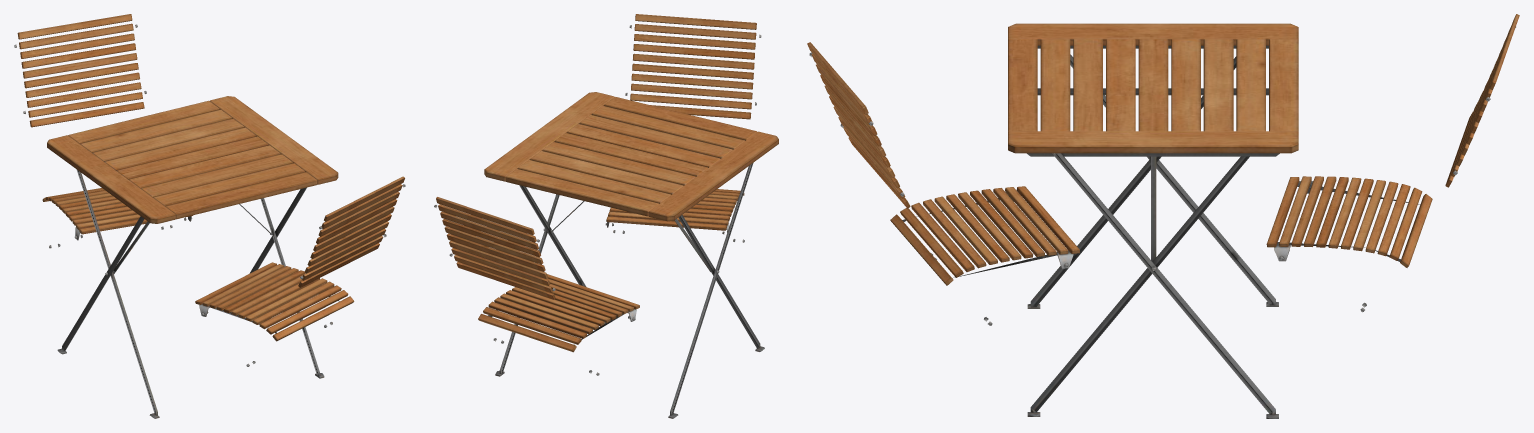
Rendered from outdoor_table_chair_set_01.glb.
The picture shows the model from 3 angles, left to right: view 1: azimuth 30°, elevation 25°; view 2: azimuth 150°, elevation 25°; view 3: azimuth 270°, elevation 25°; orthographic projection. The views are drawn at different scales.
Parts seen in each view (by area): view 1: outdoor_table_chair_set_01_table, outdoor_table_chair_set_01_chair_02, outdoor_table_chair_set_01_chair_01; view 2: outdoor_table_chair_set_01_table, outdoor_table_chair_set_01_chair_02, outdoor_table_chair_set_01_chair_01; view 3: outdoor_table_chair_set_01_table, outdoor_table_chair_set_01_chair_01, outdoor_table_chair_set_01_chair_02.
Boxes of the visible parts, x1,y1,x2,y2 form: outdoor_table_chair_set_01_table: (47, 96, 338, 418); outdoor_table_chair_set_01_chair_02: (14, 14, 192, 248); outdoor_table_chair_set_01_chair_01: (195, 176, 405, 366); outdoor_table_chair_set_01_table: (484, 92, 778, 418); outdoor_table_chair_set_01_chair_02: (434, 197, 639, 375); outdoor_table_chair_set_01_chair_01: (605, 14, 761, 242); outdoor_table_chair_set_01_table: (1008, 23, 1298, 418); outdoor_table_chair_set_01_chair_01: (807, 42, 1079, 325); outdoor_table_chair_set_01_chair_02: (1266, 14, 1519, 312).
Size of the model in its own units: 0.7404 by 0.8468 by 1.7.
2 materials, 2 textured.
